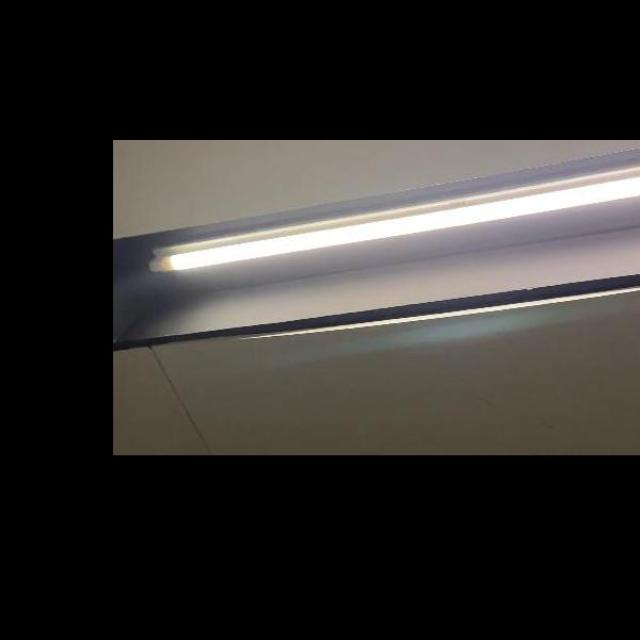Straight-Tube-Fluorescent-Lamp: (140, 140, 640, 304)
